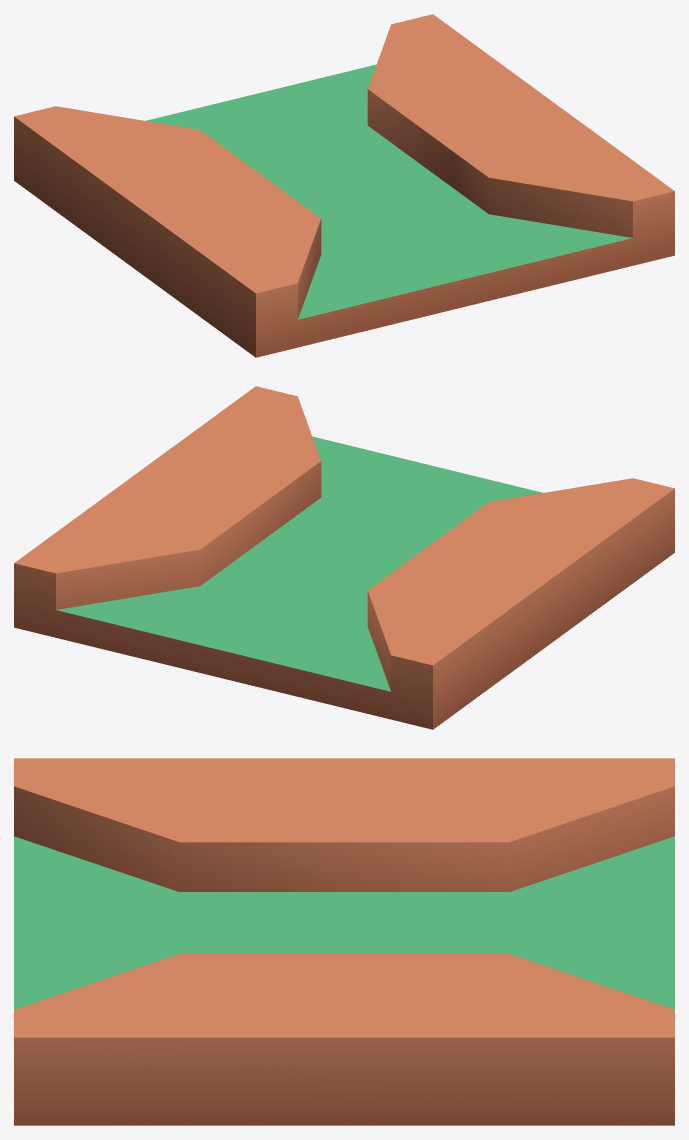
File: narrow-square.glb
3 renders of one model, top to bottom at view 1: azimuth 30°, elevation 25°; view 2: azimuth 150°, elevation 25°; view 3: azimuth 270°, elevation 25°, orthographic. The views are drawn at different scales.
Visible parts, largest first — view 1: narrow-square; view 2: narrow-square; view 3: narrow-square.
Boxes of the visible parts, x1,y1,x2,y2 form: narrow-square: [14, 14, 674, 357]; narrow-square: [14, 386, 674, 729]; narrow-square: [14, 758, 674, 1125].
Bounding box in the file's own units: 0.9999 × 0.1467 × 0.9999.
Materials: 1 (1 with a texture image).
